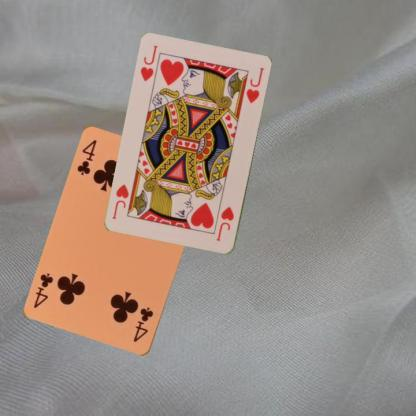4c: (130, 304, 155, 344), (75, 137, 98, 177)
Jh: (138, 43, 160, 83), (214, 204, 236, 243)
